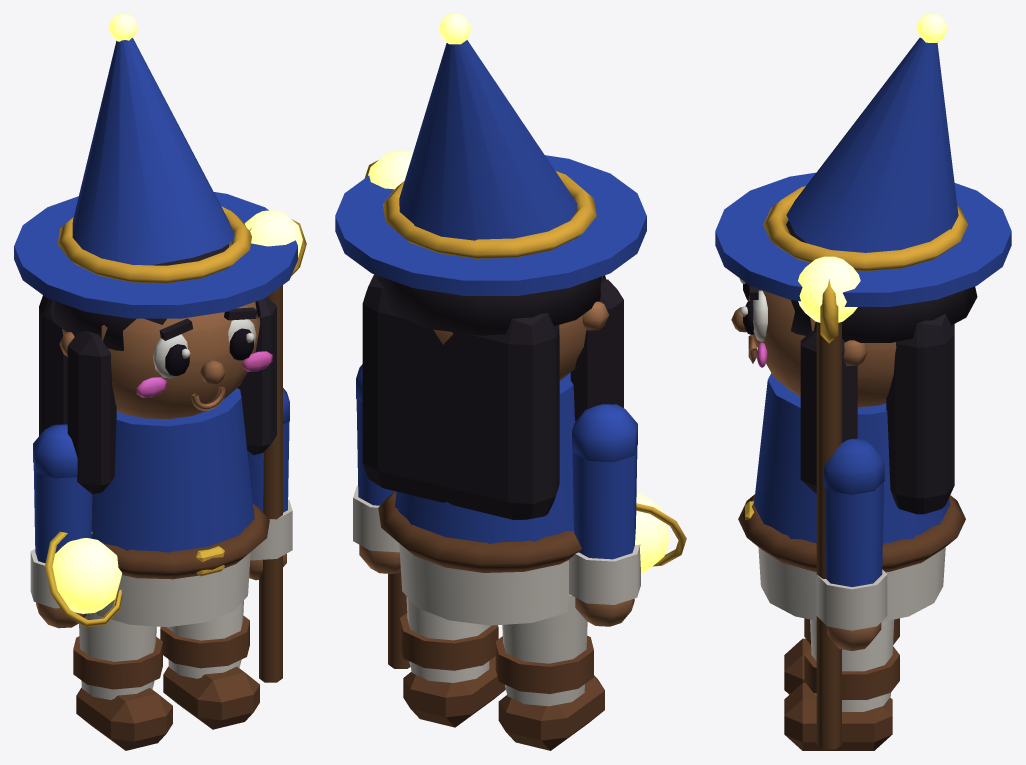
The model's file is hero_elara.glb.
3 views of the same model, side by side, from view 1: azimuth 30°, elevation 25°; view 2: azimuth 150°, elevation 25°; view 3: azimuth 270°, elevation 25° (orthographic). The views are drawn at different scales.
Visible parts, largest first — view 1: body_t0_palette, legl_t0_palette, armr_t0_palette, legr_t0_palette, arml_t0_palette, arml_t0_glow_gold, armr_t0_glow_gold, body_t0_glow_gold; view 2: body_t0_palette, arml_t0_palette, legl_t0_palette, legr_t0_palette, armr_t0_palette, arml_t0_glow_gold, armr_t0_glow_gold, body_t0_glow_gold; view 3: body_t0_palette, armr_t0_palette, legr_t0_palette, armr_t0_glow_gold, legl_t0_palette, body_t0_glow_gold.
Boxes of the visible parts, x1,y1,x2,y2 form: body_t0_palette: (14,38,297,627); legl_t0_palette: (73,612,172,750); armr_t0_palette: (247,219,306,682); legr_t0_palette: (160,600,259,729); arml_t0_palette: (30,424,122,628); arml_t0_glow_gold: (52,538,122,613); armr_t0_glow_gold: (245,210,302,257); body_t0_glow_gold: (108,14,138,41); body_t0_palette: (335,40,646,625); arml_t0_palette: (569,404,686,626); legl_t0_palette: (495,595,604,750); legr_t0_palette: (400,596,505,727); armr_t0_palette: (353,160,410,668); arml_t0_glow_gold: (635,493,669,573); armr_t0_glow_gold: (368,150,412,189); body_t0_glow_gold: (438,14,471,44); body_t0_palette: (715,37,1011,621); armr_t0_palette: (816,279,887,749); legr_t0_palette: (784,619,899,750); armr_t0_glow_gold: (798,256,860,322); legl_t0_palette: (784,618,899,694); body_t0_glow_gold: (916,14,947,42).
Bounding box in the file's own units: 0.292 × 0.684 × 0.26.
